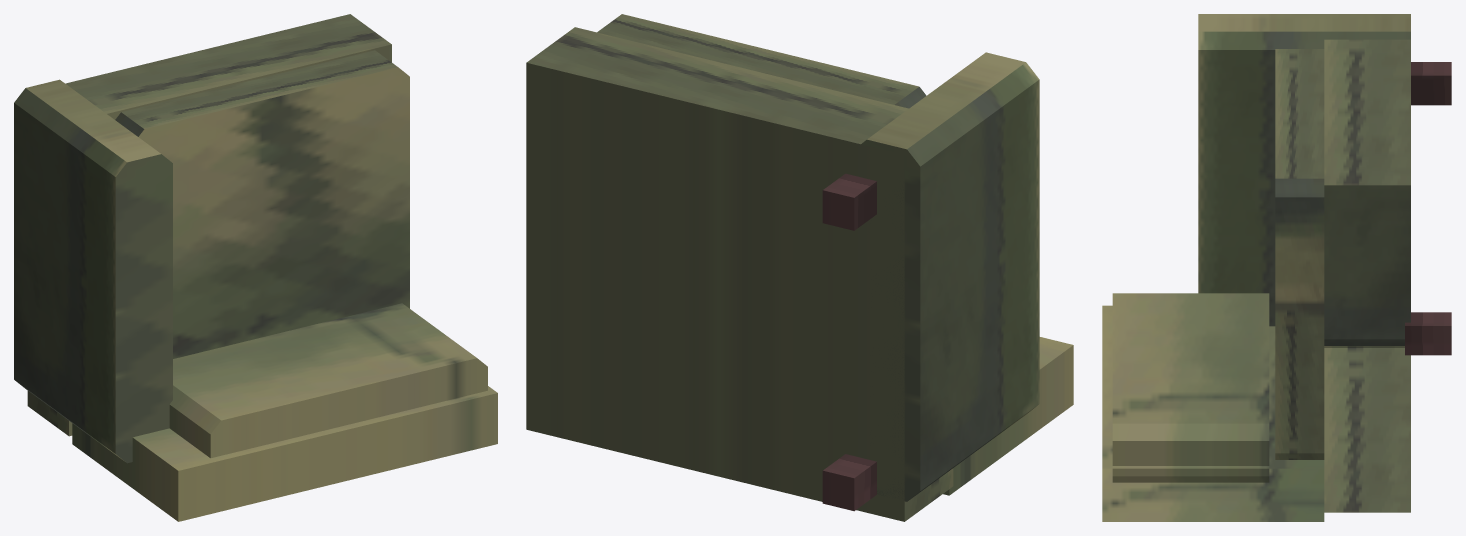
File: pz_sofa_seating_indoor_01_green_comfy_0_0.obj
The picture shows the model from 3 angles, left to right: view 1: azimuth 30°, elevation 25°; view 2: azimuth 150°, elevation 25°; view 3: azimuth 270°, elevation 25°; orthographic projection. The views are drawn at different scales.
Size of the model in its own units: 1 by 0.93 by 0.86.
1 material, 1 textured.
